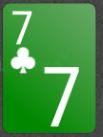Clover: (10, 47, 36, 74)
